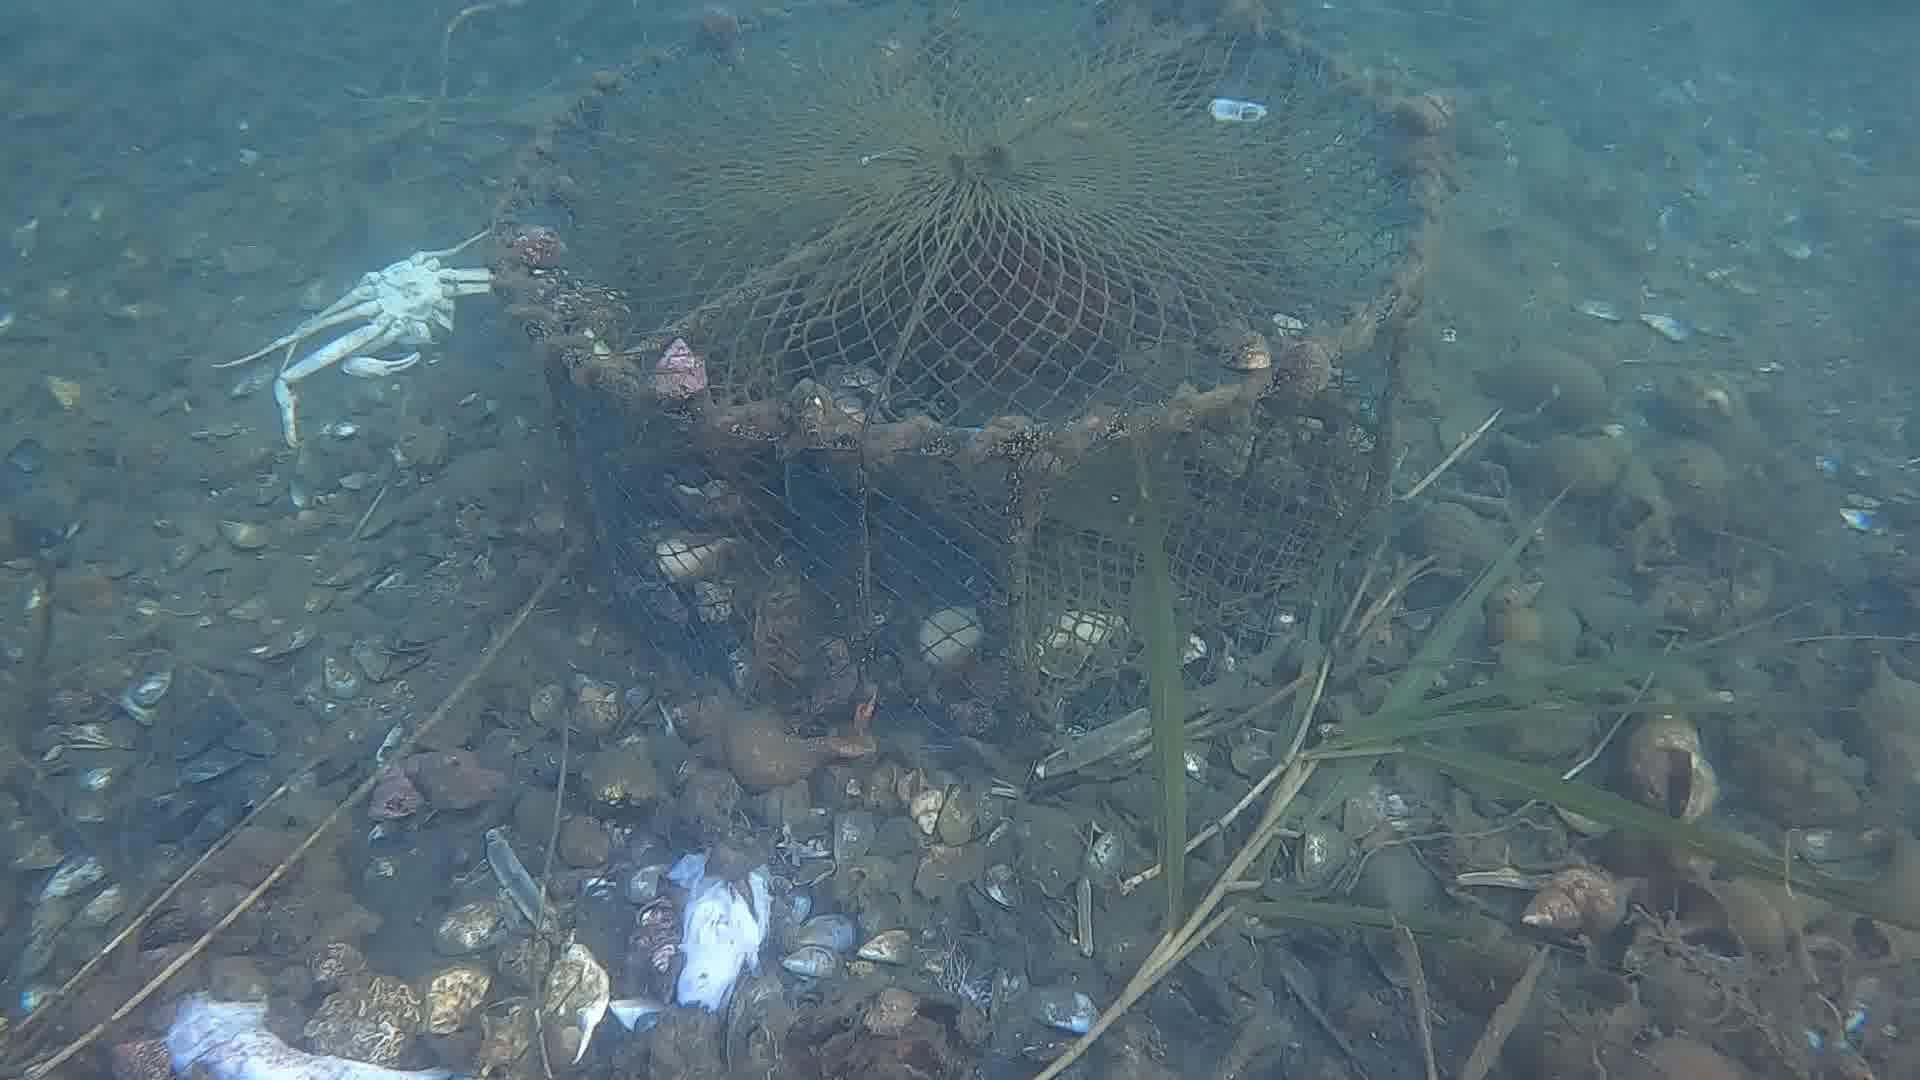circular fish trap: (484, 0, 1451, 708)
